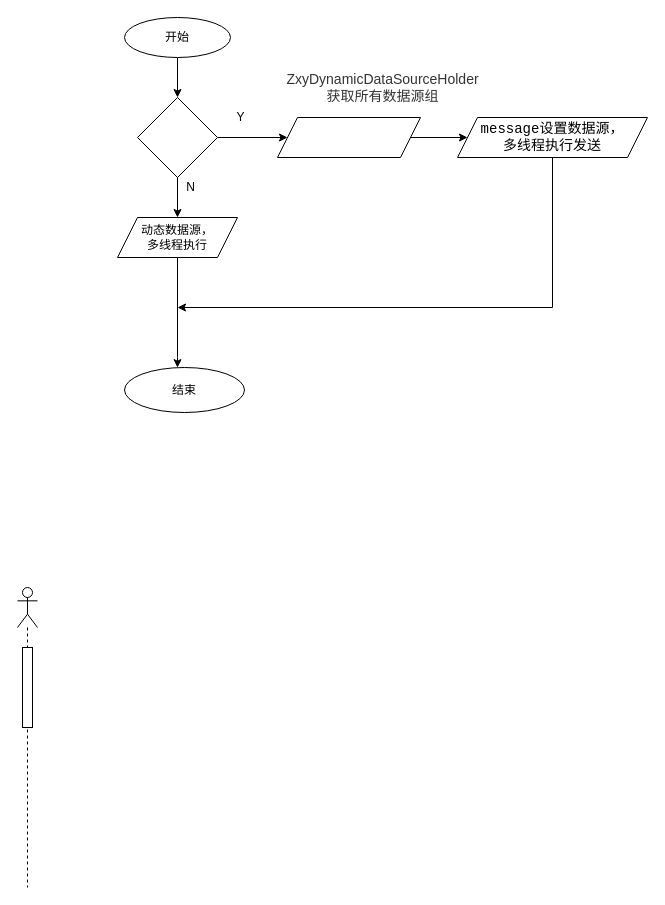
Image size: 665x905. Some labels were removed from this diagram. The box of each missing label's shape, as (x1, y1, x2, y2) in pixels:
直接发送异步消息处理: (136, 96, 218, 178)
遍历所有数据源组: (276, 116, 420, 158)
